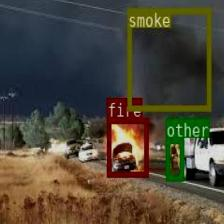fire: (106, 117, 148, 176)
smoke: (127, 7, 210, 110)
